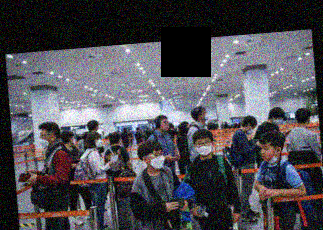mask_weared_incorrect: (261, 143, 276, 162)
with_mask: (149, 150, 166, 170), (196, 138, 213, 155), (39, 130, 50, 149), (246, 126, 258, 136), (95, 136, 104, 149), (202, 110, 210, 121), (273, 117, 284, 125), (71, 136, 77, 145)
without_mask: (160, 119, 170, 132)
